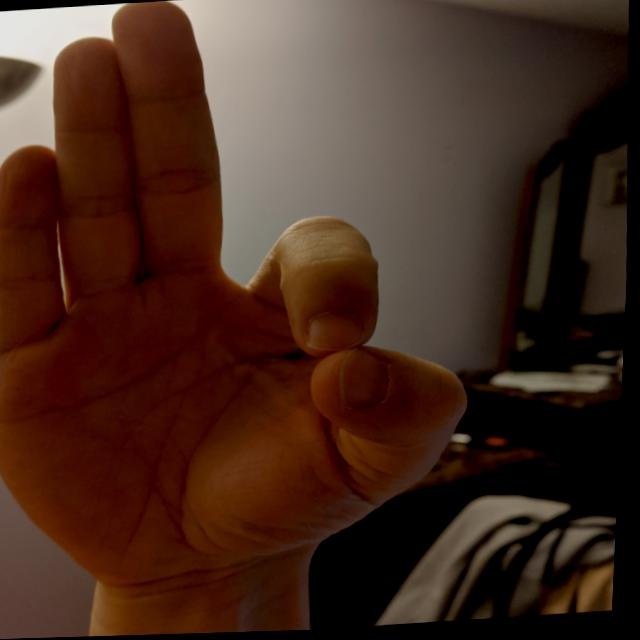F: (0, 0, 499, 601)
